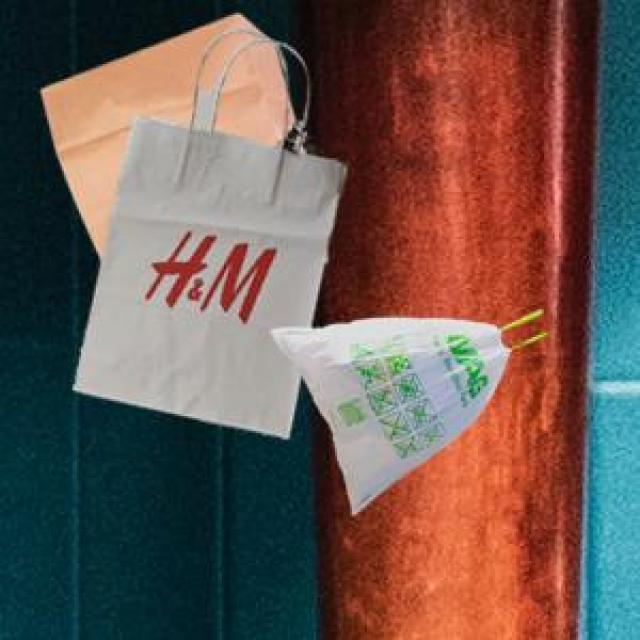paper: (68, 30, 344, 435), (38, 13, 290, 256)
